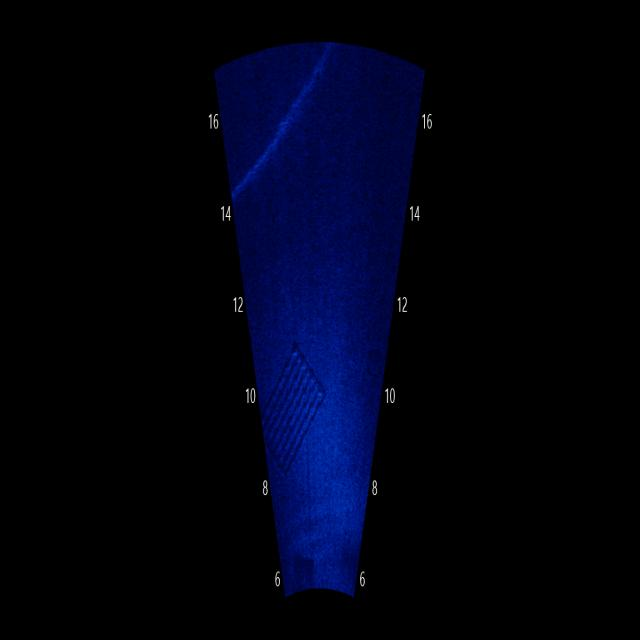square: (258, 328, 330, 492)
